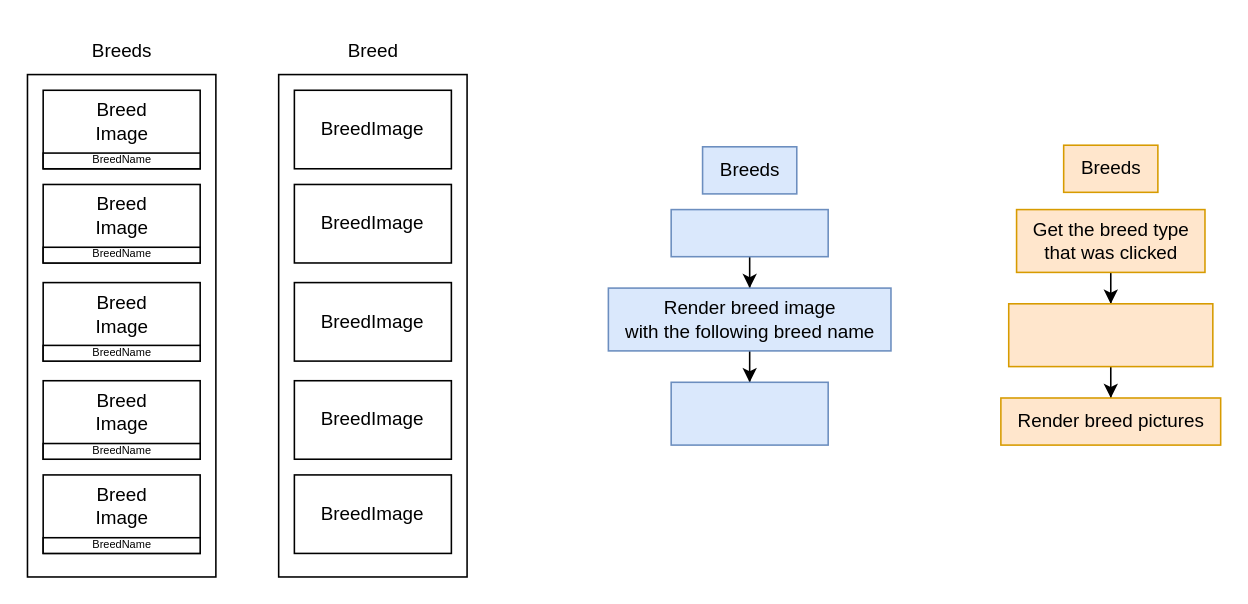
Some shapes in this 1248 by 604 pixel diagram are drawn without their labels. Each missing label, with the box of its shape:
Get all breeds: (670, 208, 828, 257)
Get random pictures of the breed type: (1007, 302, 1213, 367)
OnBreedClick Render Breed: (670, 381, 828, 445)
